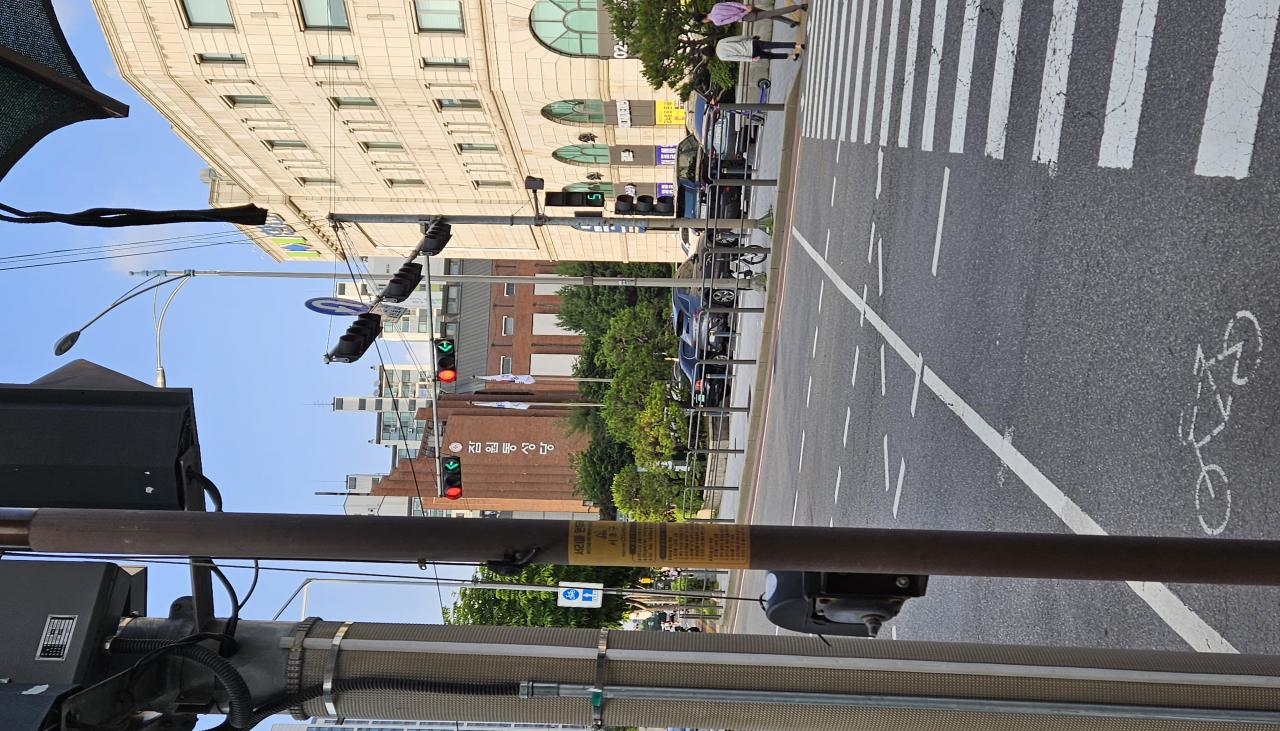Left turn: (340, 336, 356, 351), (496, 332, 512, 346)
Red Light: (457, 332, 476, 348), (304, 337, 320, 352)
